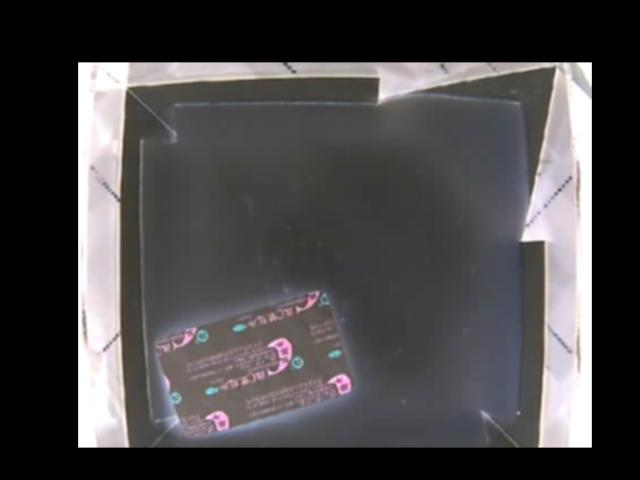Medicine: (152, 291, 355, 433)
